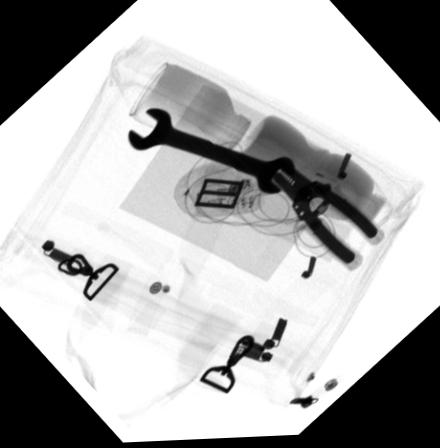Pliers: (268, 161, 384, 278)
Wrench: (126, 105, 297, 197)
